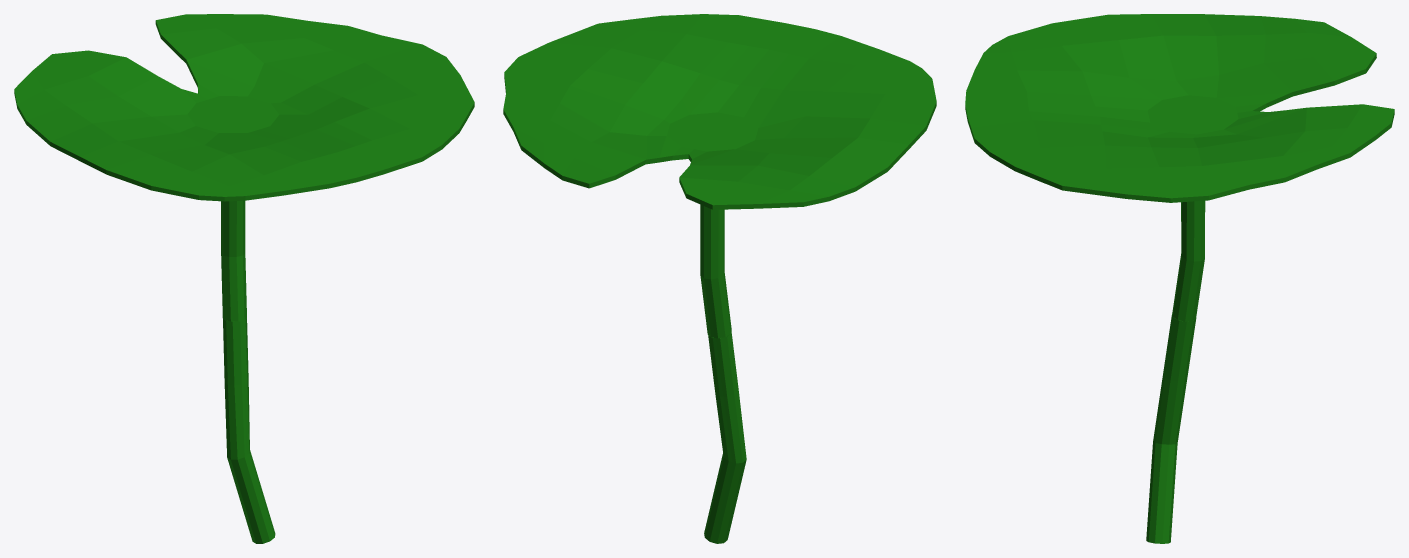
Rendered from HOJALOTO4.fbx.
3 views of the same model, side by side, from view 1: azimuth 30°, elevation 25°; view 2: azimuth 150°, elevation 25°; view 3: azimuth 270°, elevation 25° (orthographic).
Visible parts, largest first — view 1: Plane.012; view 2: Plane.012; view 3: Plane.012.
Boxes of the visible parts, bbox=[...] form: Plane.012: bbox=[14, 14, 474, 543]; Plane.012: bbox=[503, 14, 936, 543]; Plane.012: bbox=[965, 14, 1394, 543].
Bounding box in the file's own units: 192 × 209 × 185.
